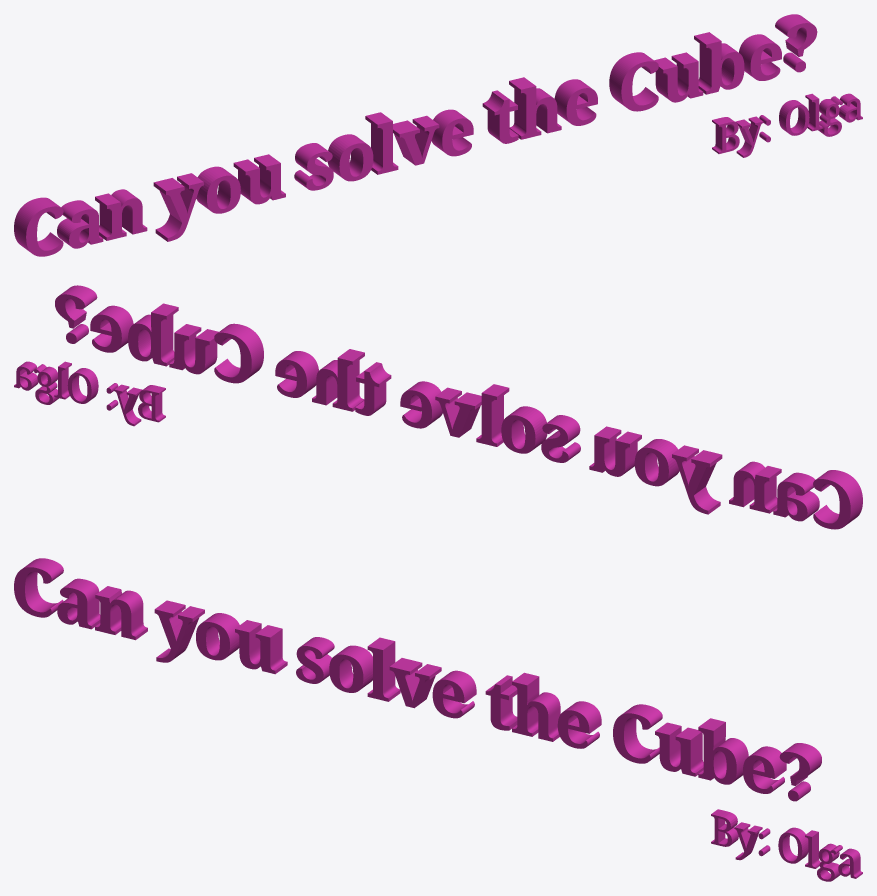
Rendered from solve_the_cube_final.glb.
3 views of the same model, one above another, from view 1: azimuth 30°, elevation 25°; view 2: azimuth 150°, elevation 25°; view 3: azimuth 330°, elevation 25° (orthographic).
Visible parts, largest first — view 1: Mesh_Mesh_head_geo.001_lambert2SG.001; view 2: Mesh_Mesh_head_geo.001_lambert2SG.001; view 3: Mesh_Mesh_head_geo.001_lambert2SG.001.
Part boxes in pixels (<box>): Mesh_Mesh_head_geo.001_lambert2SG.001: <box>14,14,862,256</box>; Mesh_Mesh_head_geo.001_lambert2SG.001: <box>14,285,862,529</box>; Mesh_Mesh_head_geo.001_lambert2SG.001: <box>14,558,862,881</box>.
Size of the model in its own units: 0.2788 by 0.039 by 0.007.
